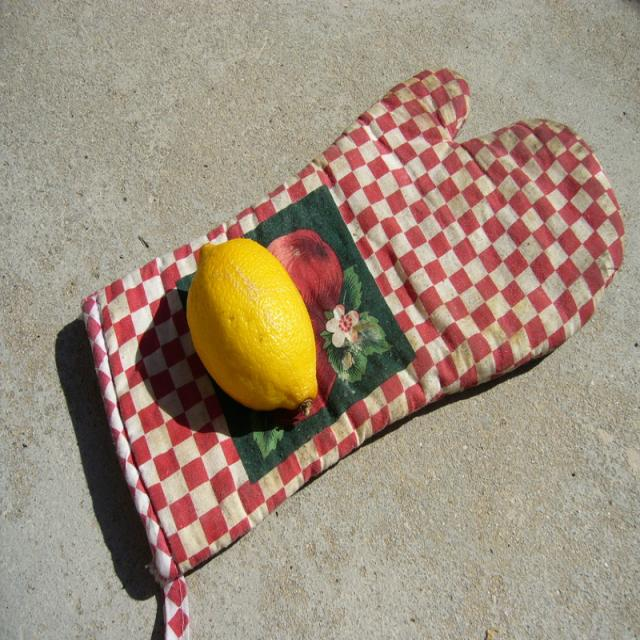lemon - glouse: (187, 238, 317, 410)
